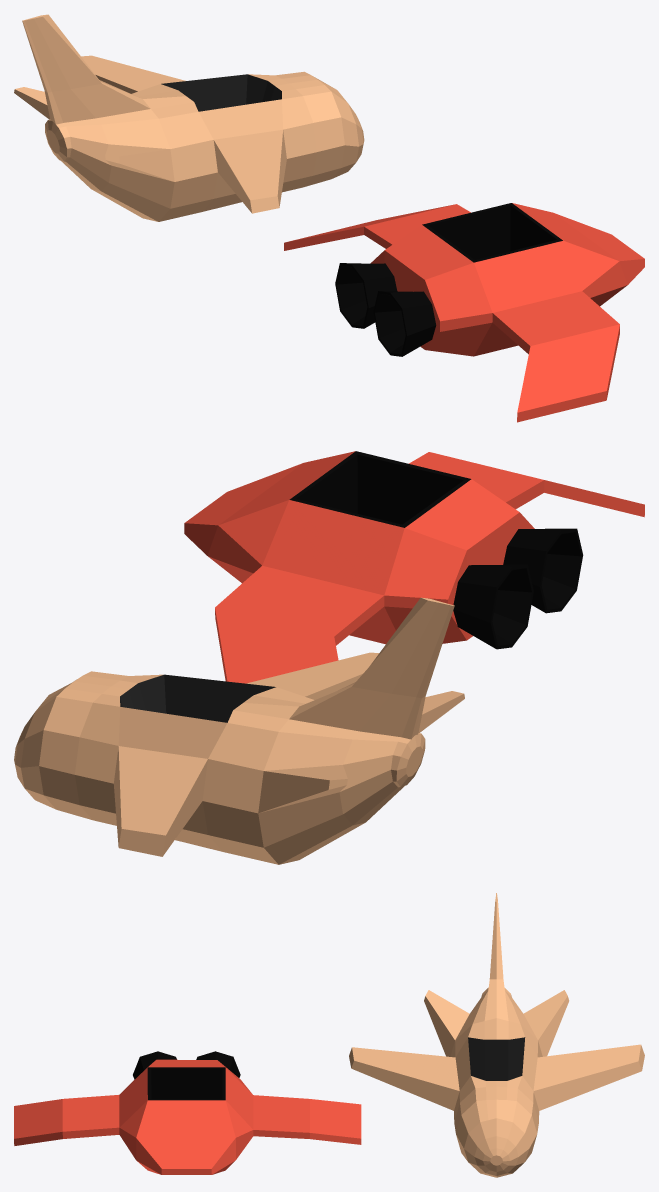
The model's file is Ships.fbx.
The picture shows the model from 3 angles, top to bottom: view 1: azimuth 30°, elevation 25°; view 2: azimuth 150°, elevation 25°; view 3: azimuth 270°, elevation 25°; orthographic projection. The views are drawn at different scales.
Parts seen in each view (by area): view 1: Ship, AirPlane; view 2: AirPlane, Ship; view 3: AirPlane, Ship.
Boxes of the visible parts, x1,y1,x2,y2 form: Ship: [284, 203, 644, 422]; AirPlane: [14, 14, 364, 221]; AirPlane: [14, 597, 464, 864]; Ship: [184, 451, 644, 683]; AirPlane: [349, 893, 644, 1177]; Ship: [14, 1051, 361, 1174].
Bounding box in the file's own units: 129 × 70.09 × 234.
